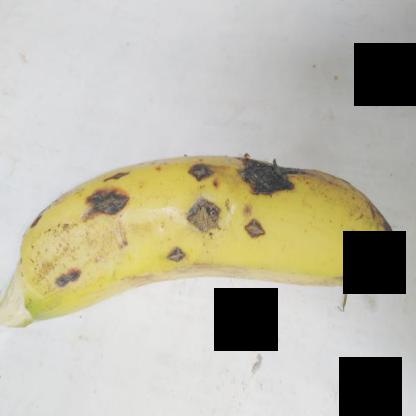ripe: (0, 141, 402, 352)
rotten: (79, 152, 151, 226), (226, 152, 300, 197), (176, 192, 216, 244), (231, 213, 272, 256), (176, 155, 212, 196), (46, 261, 85, 295), (158, 230, 186, 276)
